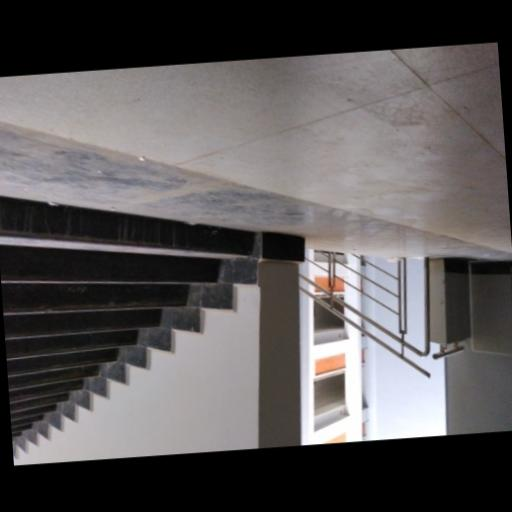stairs: (0, 197, 255, 435)
